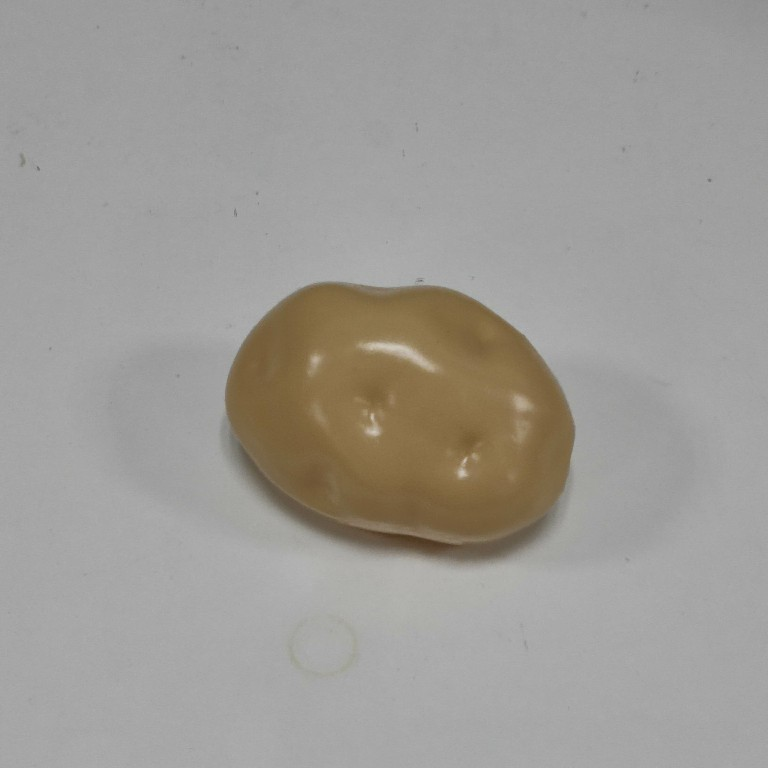fruit_potato: (220, 275, 581, 552)
